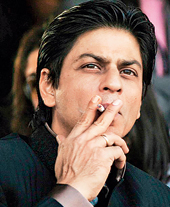cigarette: (96, 103, 106, 113)
